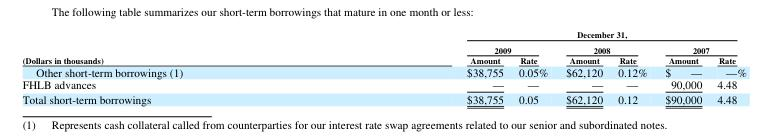table: (21, 28, 745, 105)
table column: (21, 28, 324, 105), (324, 28, 510, 105), (556, 28, 609, 105), (655, 28, 708, 105), (510, 28, 556, 105), (609, 28, 655, 105), (708, 28, 745, 105)
table column header: (21, 28, 745, 64)
table row: (21, 28, 745, 42), (21, 77, 745, 91), (21, 91, 745, 105), (21, 64, 745, 77), (21, 42, 745, 54), (21, 54, 745, 64)
table spanning cell: (21, 28, 324, 64), (324, 28, 745, 42), (324, 42, 556, 54), (556, 42, 655, 54), (655, 42, 745, 54)
